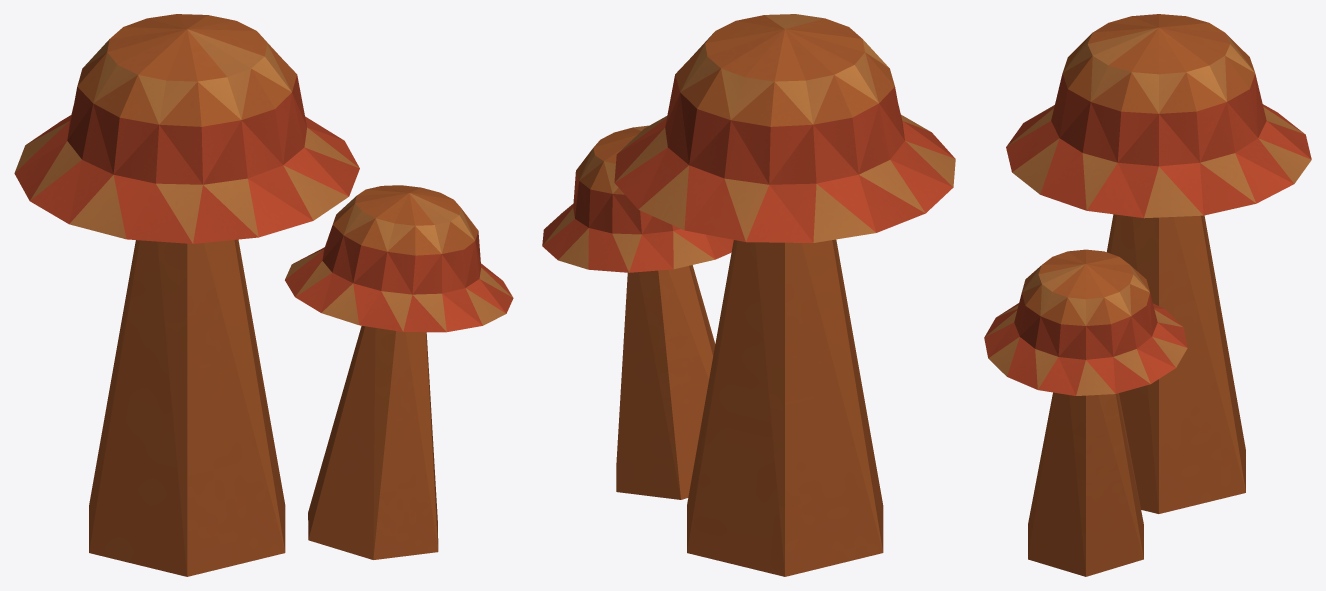
The model's file is Mushroom_Gr_2A.fbx.
3 views of the same model, side by side, from view 1: azimuth 30°, elevation 25°; view 2: azimuth 150°, elevation 25°; view 3: azimuth 270°, elevation 25° (orthographic). The views are drawn at different scales.
Parts seen in each view (by area): view 1: polySurface698; view 2: polySurface698; view 3: polySurface698.
Part boxes in pixels (x1,y1,x2,y2): polySurface698: (14, 14, 513, 576); polySurface698: (542, 14, 955, 576); polySurface698: (984, 14, 1311, 576).
Bounding box in the file's own units: 185 × 217 × 141.
1 material, 1 textured.
